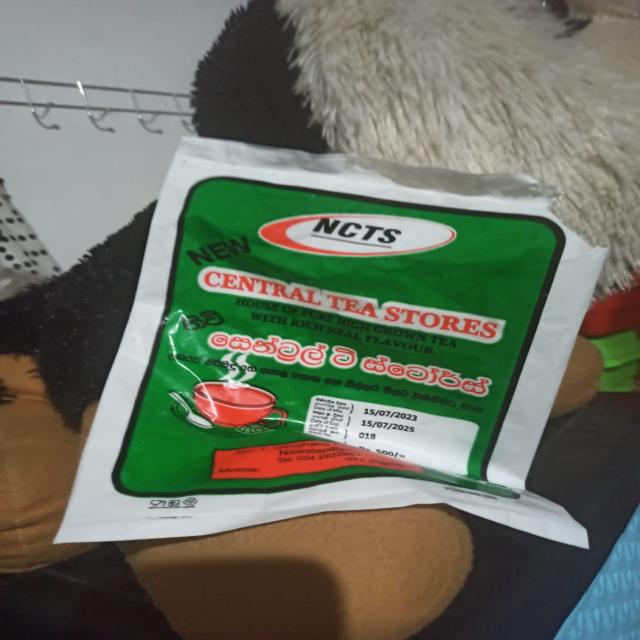Central Tea: (145, 111, 551, 547)
